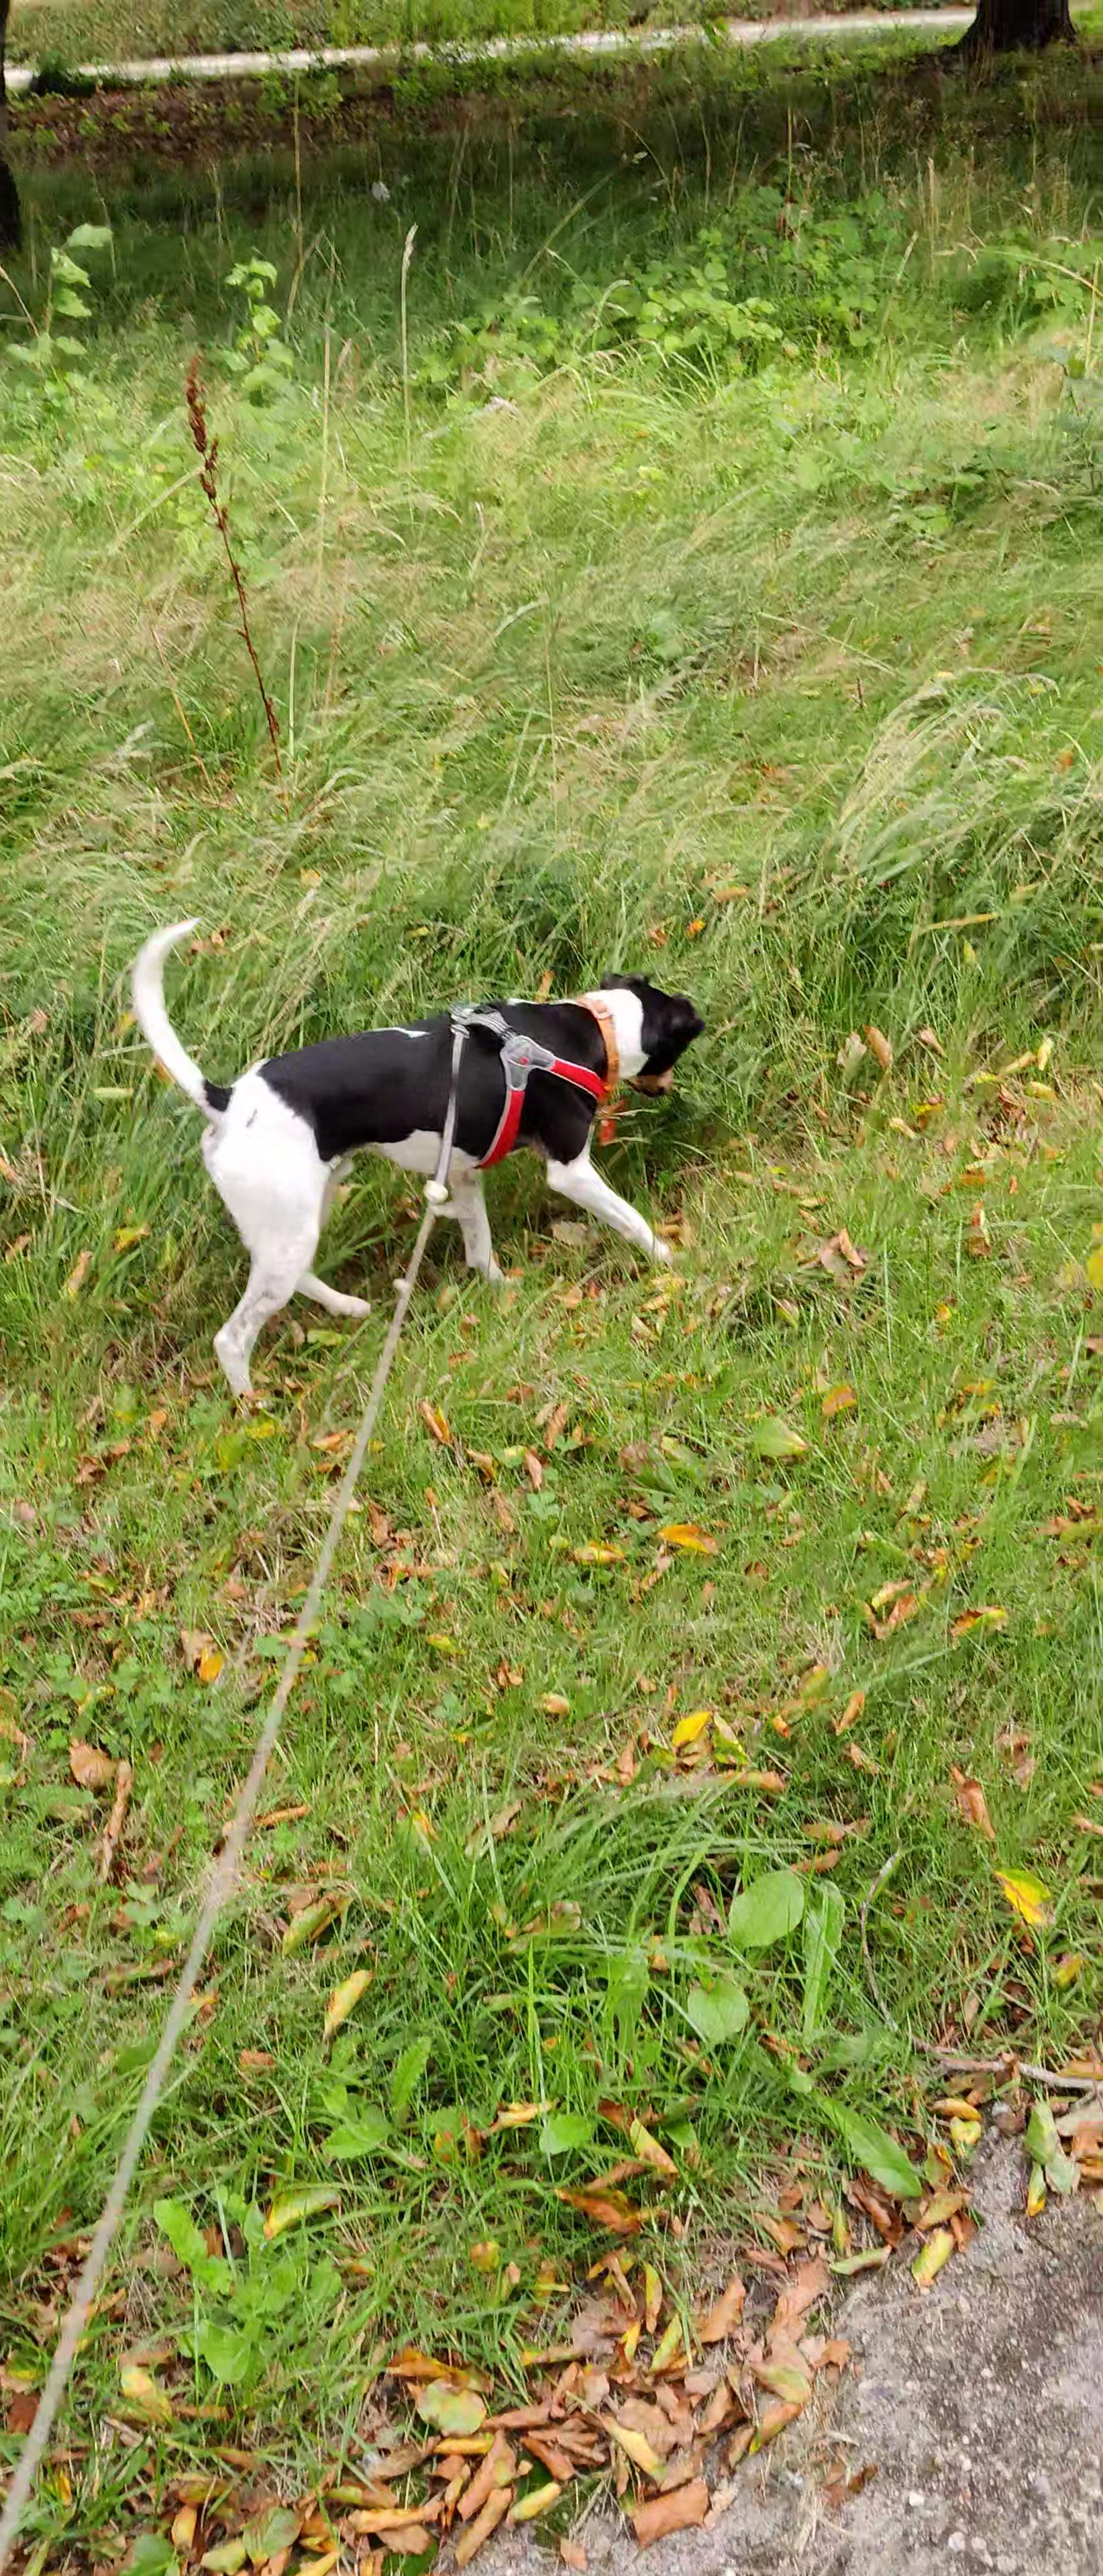Dog: (102, 902, 745, 1401)
